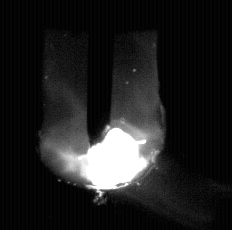arame: (87, 0, 113, 148)
poca: (40, 0, 165, 230)
